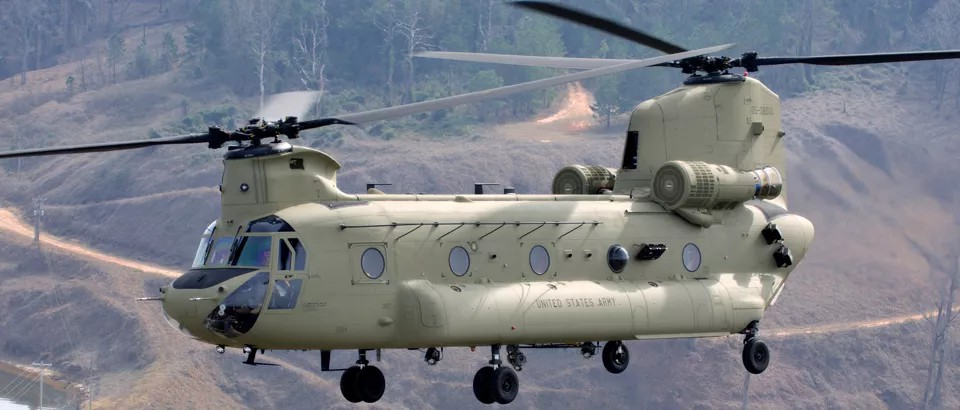chinook: (112, 32, 858, 404)
